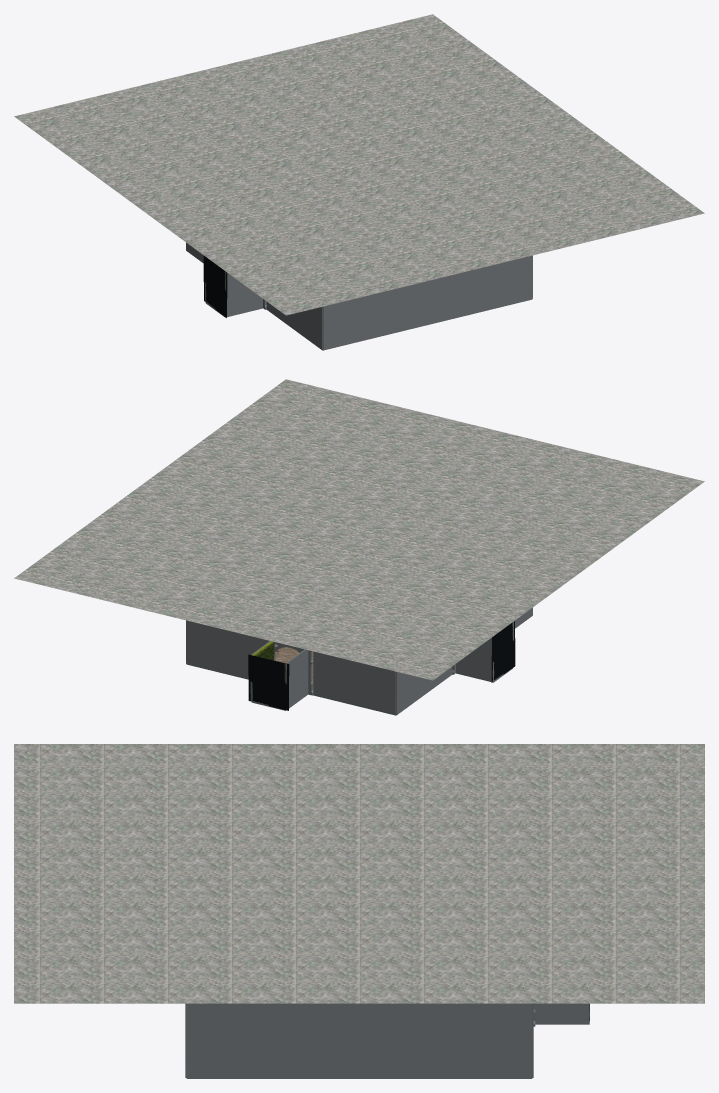
File: room.glb
3 views of the same model, one above another, from view 1: azimuth 30°, elevation 25°; view 2: azimuth 150°, elevation 25°; view 3: azimuth 270°, elevation 25° (orthographic). The views are drawn at different scales.
Parts seen in each view (by area): view 1: TOPIARY-ROOM; view 2: TOPIARY-ROOM; view 3: TOPIARY-ROOM.
Part boxes in pixels (x1=…): TOPIARY-ROOM: x1=14, y1=14, x2=704, y2=350; TOPIARY-ROOM: x1=14, y1=379, x2=704, y2=715; TOPIARY-ROOM: x1=14, y1=744, x2=704, y2=1078.
Size of the model in its own units: 32 by 8.06 by 36.
1 material, 1 textured.
